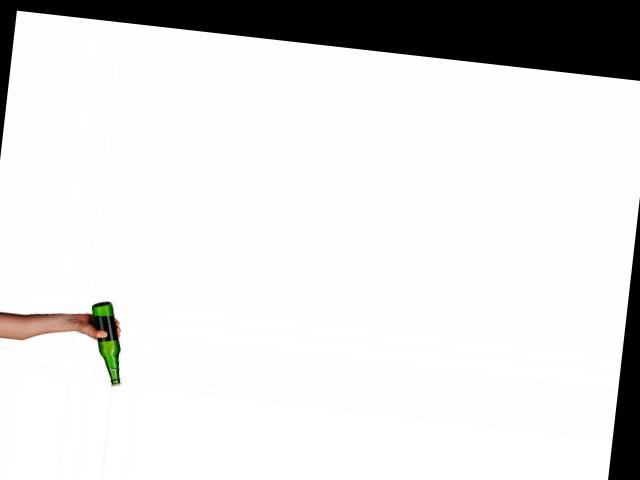beer: (83, 299, 129, 386)
